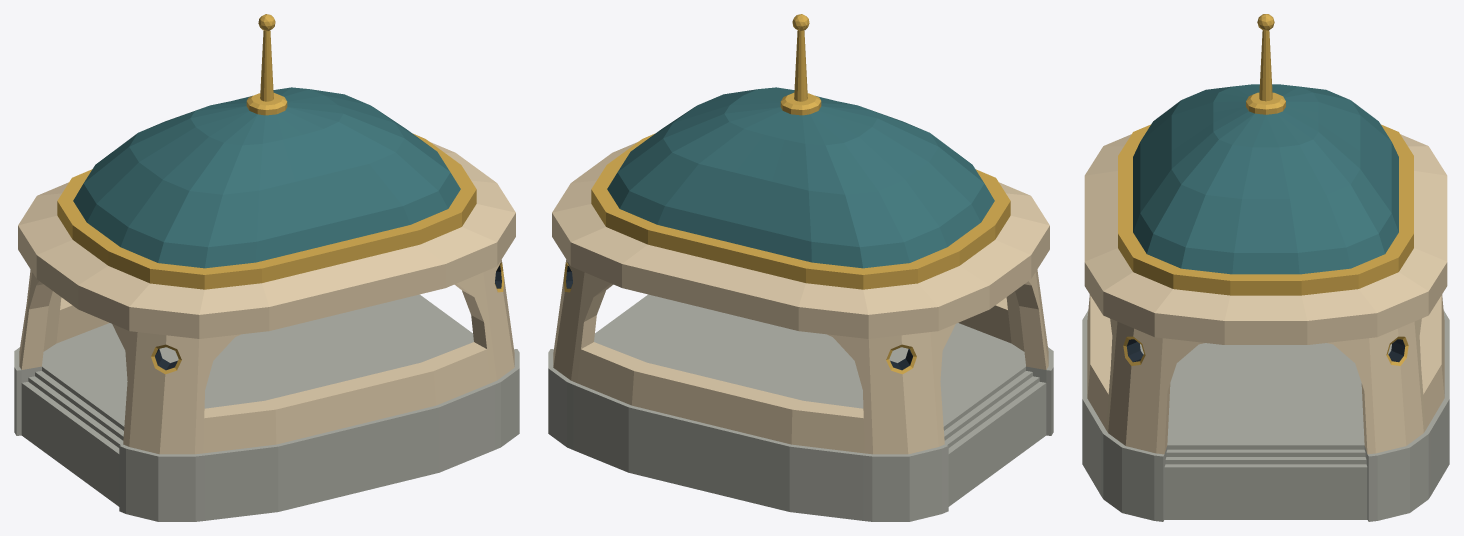
The picture shows the model from 3 angles, left to right: view 1: azimuth 30°, elevation 25°; view 2: azimuth 150°, elevation 25°; view 3: azimuth 270°, elevation 25°; orthographic projection.
Visible parts, largest first — view 1: commons; view 2: commons; view 3: commons.
Part boxes in pixels (x1,y1,x2,y2): commons: (14,14,519,521); commons: (548,14,1053,521); commons: (1082,14,1449,521).
Bounding box in the file's own units: 12.38 × 11.59 × 9.4.
Materials: 1 (1 with a texture image).
